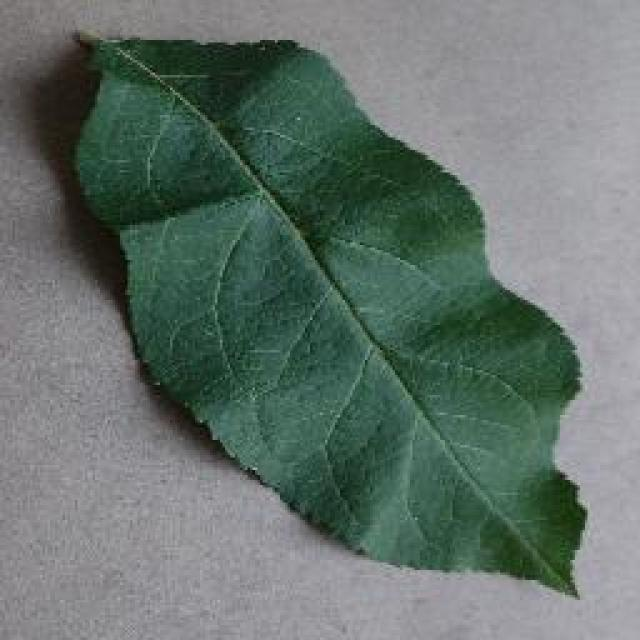apple healthy: (68, 25, 588, 597)
